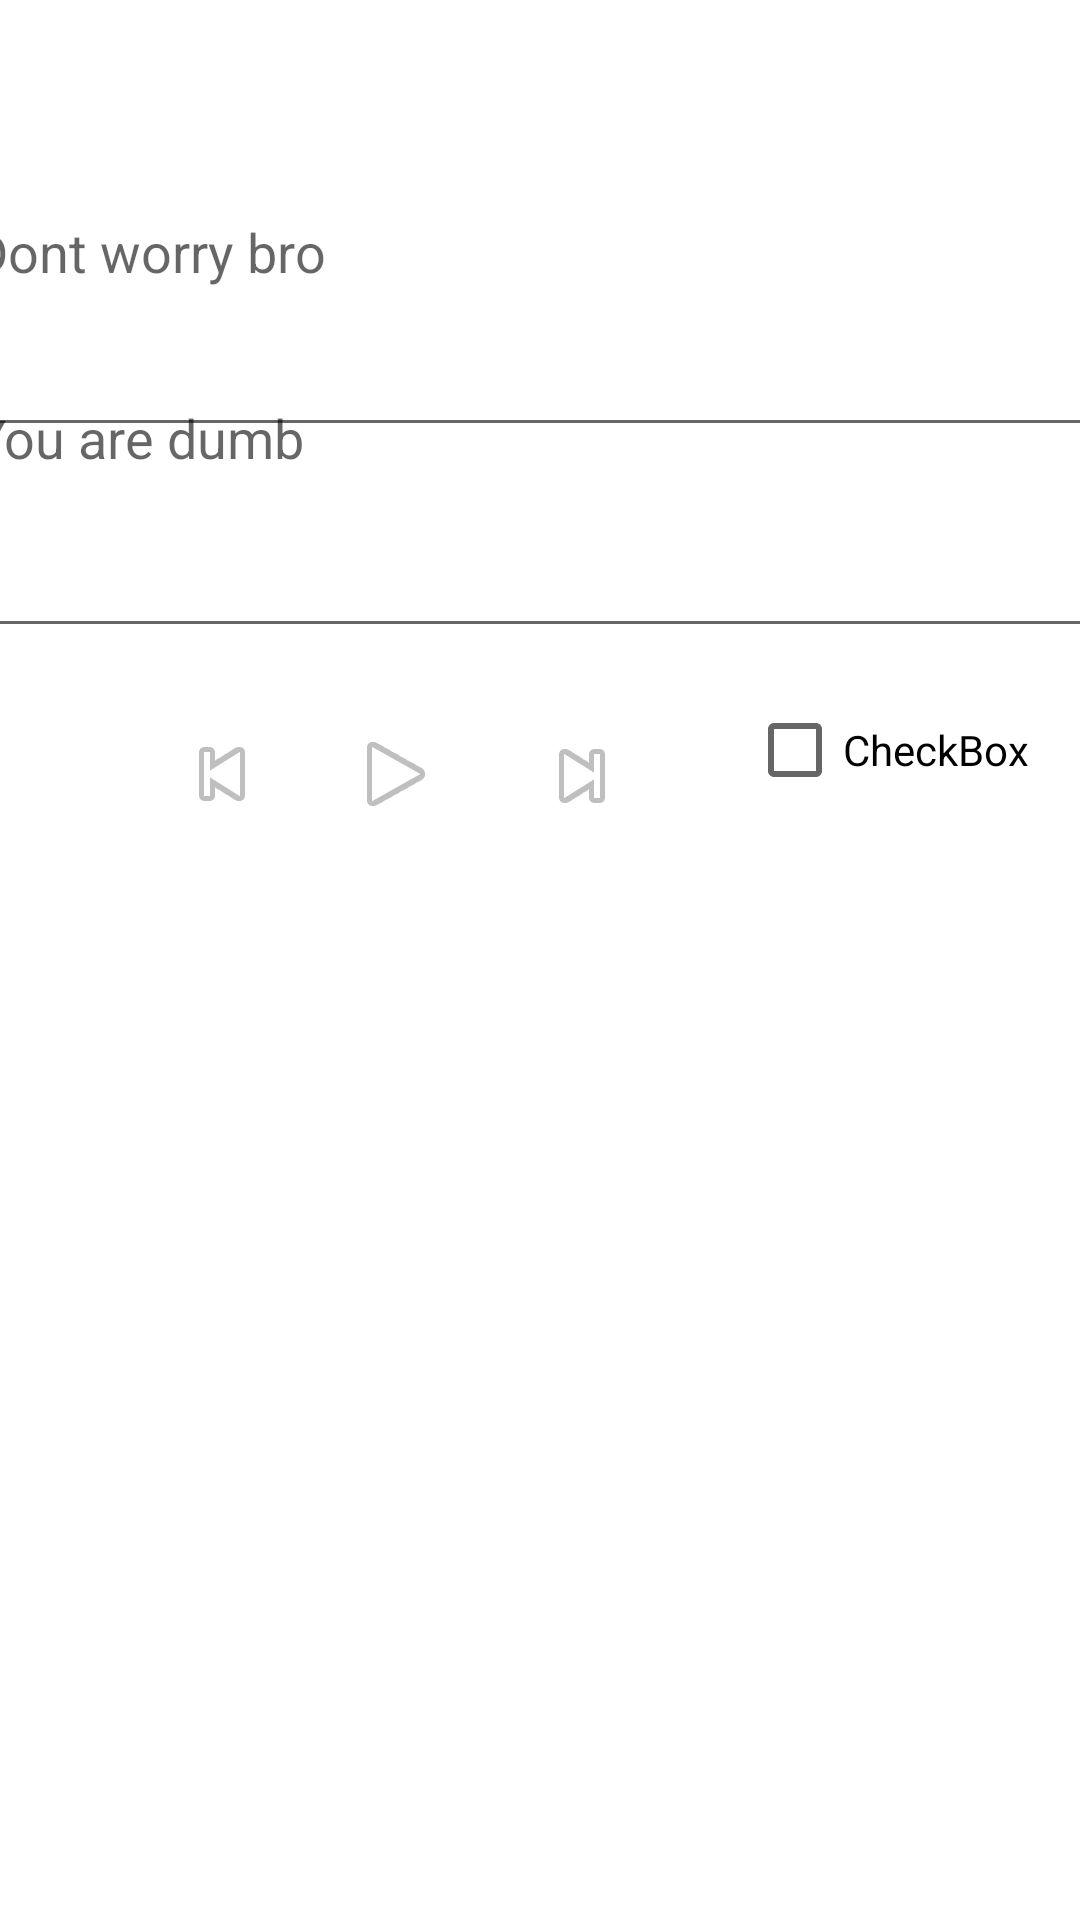

Icons on this 1080x1920 Android screen, each with its box as (x1, y1, x2, y2):
next: (559, 749, 605, 803)
play: (367, 742, 425, 806)
previous: (199, 747, 245, 801)
